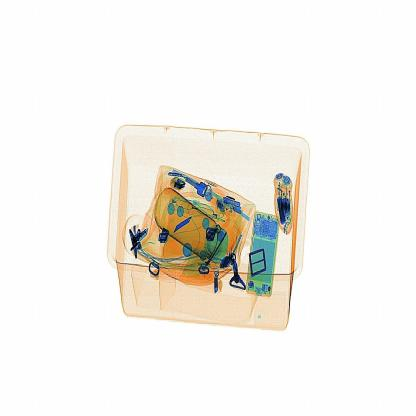pliers: (164, 204, 197, 244)
